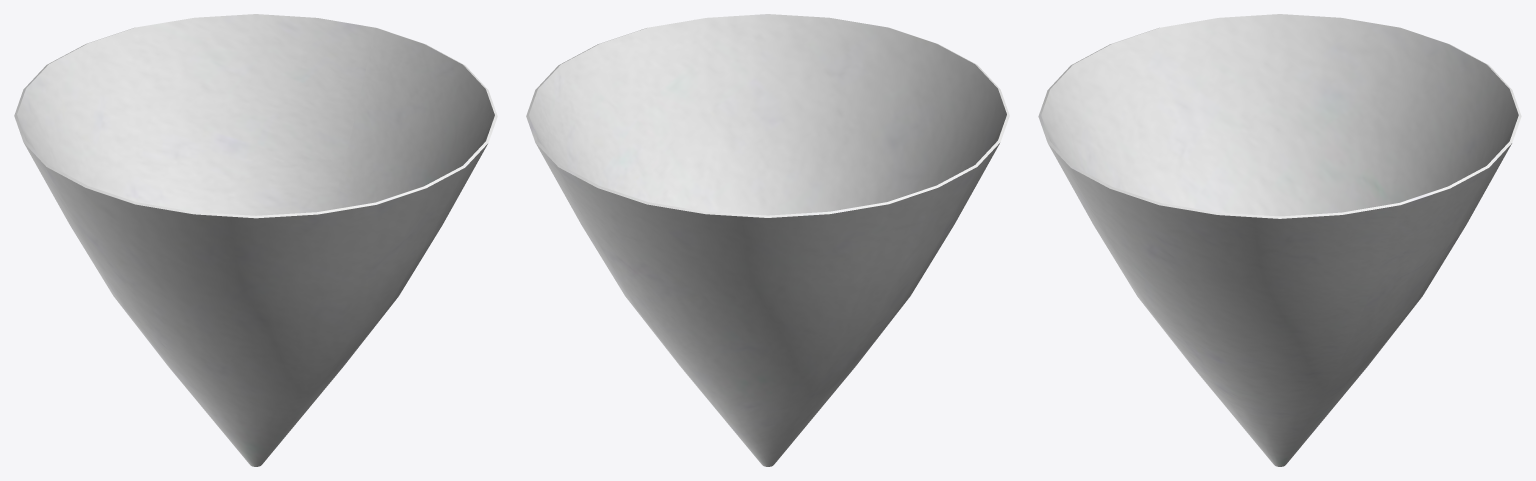
Rendered from Funnel_Filter_Paper.fbx.
3 renders of one model, left to right at view 1: azimuth 30°, elevation 25°; view 2: azimuth 150°, elevation 25°; view 3: azimuth 270°, elevation 25°, orthographic.
Visible parts, largest first — view 1: Funnel_Filter_Paper; view 2: Funnel_Filter_Paper; view 3: Funnel_Filter_Paper.
Boxes of the visible parts, bbox=[...] form: Funnel_Filter_Paper: bbox=[14, 14, 497, 466]; Funnel_Filter_Paper: bbox=[526, 14, 1009, 466]; Funnel_Filter_Paper: bbox=[1038, 14, 1521, 466].
Bounding box in the file's own units: 0.1555 × 0.1241 × 0.1555.
